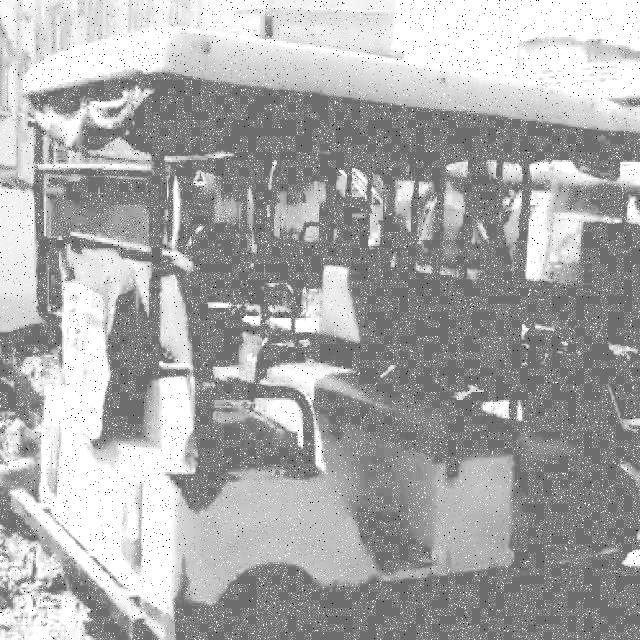Toto: (10, 22, 640, 630)
